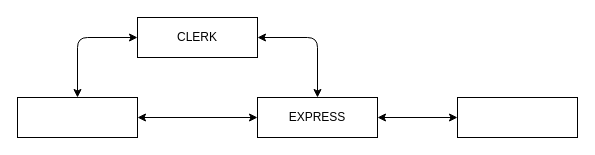
This 595x155 diagram has some shape labels left out. Each missing label, with the box of its shape:
DATABASE: (456, 96, 578, 138)
NEXT JS: (16, 96, 138, 138)
